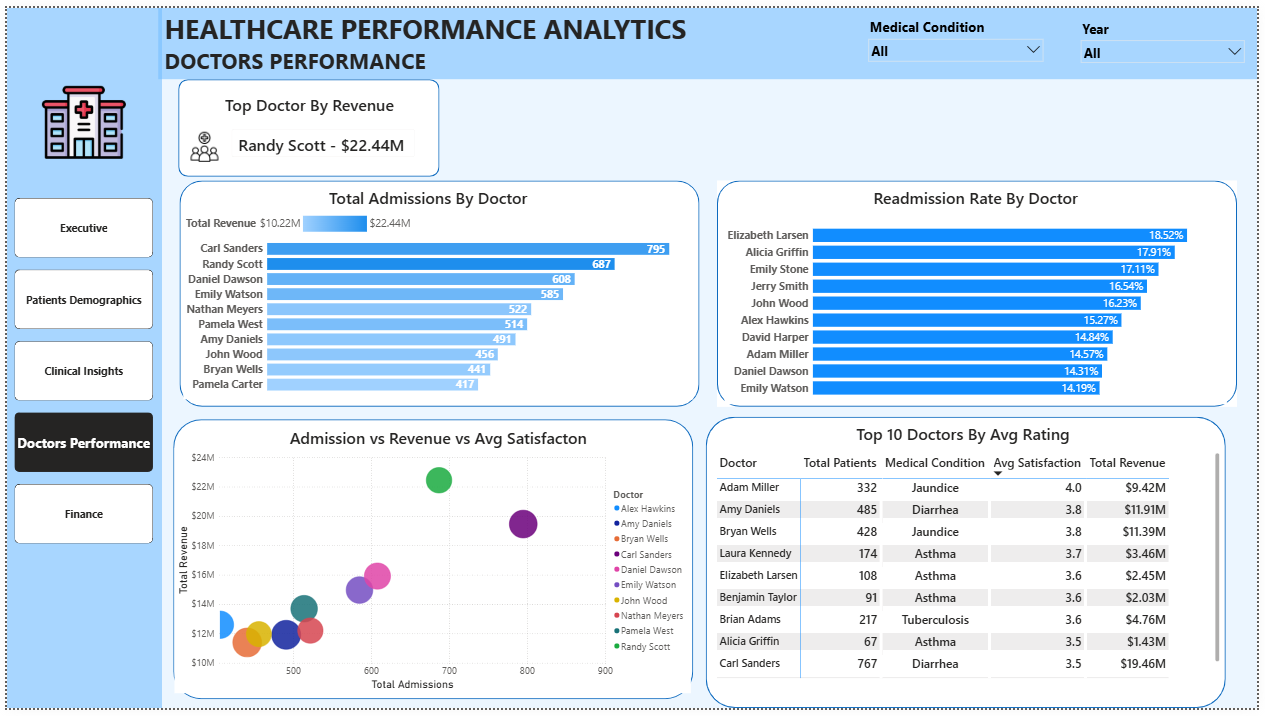

What the dashboard file says about the page in this screenshot:
{"tool":"powerbi","page":{"name":"Doctors Performance","canvas":[2500,1400],"ordinal":3},"visuals":[{"type":"shape","box":[0,0,310,1400],"z":0},{"type":"shape","box":[302.5,0,2197.5,142.5],"z":2000},{"type":"textbox","box":[310,0,2190,142.5],"z":4000},{"type":"slicer","fields":{"Values":["Healthcare Dataset.Medical Condition"]},"box":[1713.6,15,370,102.5],"z":6000},{"type":"shape","box":[342.5,142.5,522.5,195],"z":7000},{"type":"slicer","fields":{"Values":["Date_Table.Year"]},"box":[2138.6,17.5,347.5,100],"z":8000},{"type":"image","box":[65,145,177.5,167.5],"z":10000},{"type":"textbox","box":[420,167.5,370,72.5],"z":11000},{"type":"image","box":[345.4,247.5,100,60],"z":18000},{"type":"shape","box":[344.6,345.9,1040,452.5],"z":20000},{"type":"textbox","box":[574.8,351.6,535,52.5],"z":22000},{"type":"shape","box":[1420.2,345,1040,452.5],"z":24000},{"type":"shape","box":[332.5,822.5,1040,560],"z":25000},{"type":"shape","box":[1397.5,817.5,1040,582.5],"z":26000},{"type":"textbox","box":[528.8,832.5,665,55],"z":27000},{"type":"textbox","box":[1624.7,352.5,625,52.5],"z":28000},{"type":"textbox","box":[1631.2,825,550,52.5],"z":29000},{"type":"pageNavigator","box":[15,380,277.5,695],"z":30000},{"type":"clusteredBarChart","fields":{"Category":["Healthcare Dataset.Doctor"],"Y":["_Measures.Total Admissions"]},"box":[352.5,407.5,1020,375],"z":35001},{"type":"clusteredBarChart","fields":{"Category":["Healthcare Dataset.Doctor"],"Y":["_Measures.Readmission Rate"]},"box":[1435,415,1005,377.5],"z":35002},{"type":"pivotTable","fields":{"Rows":["Healthcare Dataset.Doctor"],"Values":["_Measures.Total Patients","Min(Healthcare Dataset.Medical Condition)","_Measures.Avg Satisfaction","_Measures.Total Revenue"]},"box":[1415,885,1015,460],"z":35003},{"type":"scatterChart","fields":{"X":["_Measures.Total Admissions"],"Y":["_Measures.Total Revenue"],"Series":["Healthcare Dataset.Doctor"],"Size":["_Measures.Avg Satisfaction"]},"box":[335,880,1032.5,490],"z":35004},{"type":"cardVisual","fields":{"Data":["_Measures.TopDoctorWithRevenue"]},"box":[432.5,225,400,90],"z":35005}]}

Visuals, with their boxes in screenshot pixels (x1, y1, x2, y2), scaled from the page's 2500x1400 canvas onto the 1265x716 screenshot:
shape: <bbox>0, 0, 157, 715</bbox>
shape: <bbox>153, 0, 1264, 73</bbox>
textbox: <bbox>157, 0, 1264, 73</bbox>
slicer - Healthcare Dataset.Medical Condition: <bbox>867, 8, 1054, 60</bbox>
shape: <bbox>173, 73, 438, 173</bbox>
slicer - Date_Table.Year: <bbox>1082, 9, 1258, 60</bbox>
image: <bbox>33, 74, 123, 160</bbox>
textbox: <bbox>213, 86, 400, 123</bbox>
image: <bbox>175, 127, 225, 157</bbox>
shape: <bbox>174, 177, 701, 408</bbox>
textbox: <bbox>291, 180, 562, 207</bbox>
shape: <bbox>719, 176, 1245, 408</bbox>
shape: <bbox>168, 421, 694, 707</bbox>
shape: <bbox>707, 418, 1233, 715</bbox>
textbox: <bbox>268, 426, 604, 454</bbox>
textbox: <bbox>822, 180, 1138, 207</bbox>
textbox: <bbox>825, 422, 1104, 449</bbox>
pageNavigator: <bbox>8, 194, 148, 550</bbox>
clusteredBarChart - Healthcare Dataset.Doctor x _Measures.Total Admissions: <bbox>178, 208, 694, 400</bbox>
clusteredBarChart - Healthcare Dataset.Doctor x _Measures.Readmission Rate: <bbox>726, 212, 1235, 405</bbox>
pivotTable - Healthcare Dataset.Doctor x _Measures.Total Patients: <bbox>716, 453, 1230, 688</bbox>
scatterChart - _Measures.Total Admissions x _Measures.Total Revenue: <bbox>170, 450, 692, 701</bbox>
cardVisual - _Measures.TopDoctorWithRevenue: <bbox>219, 115, 421, 161</bbox>
